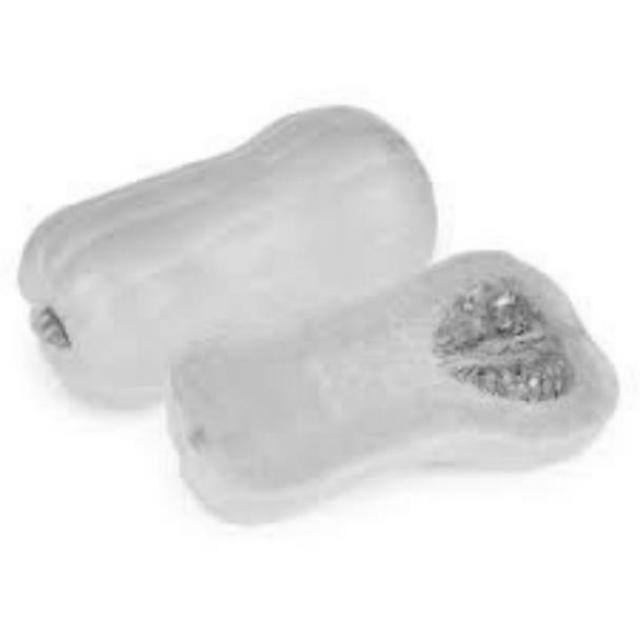bi ngo: (12, 98, 448, 416), (162, 244, 622, 518)
